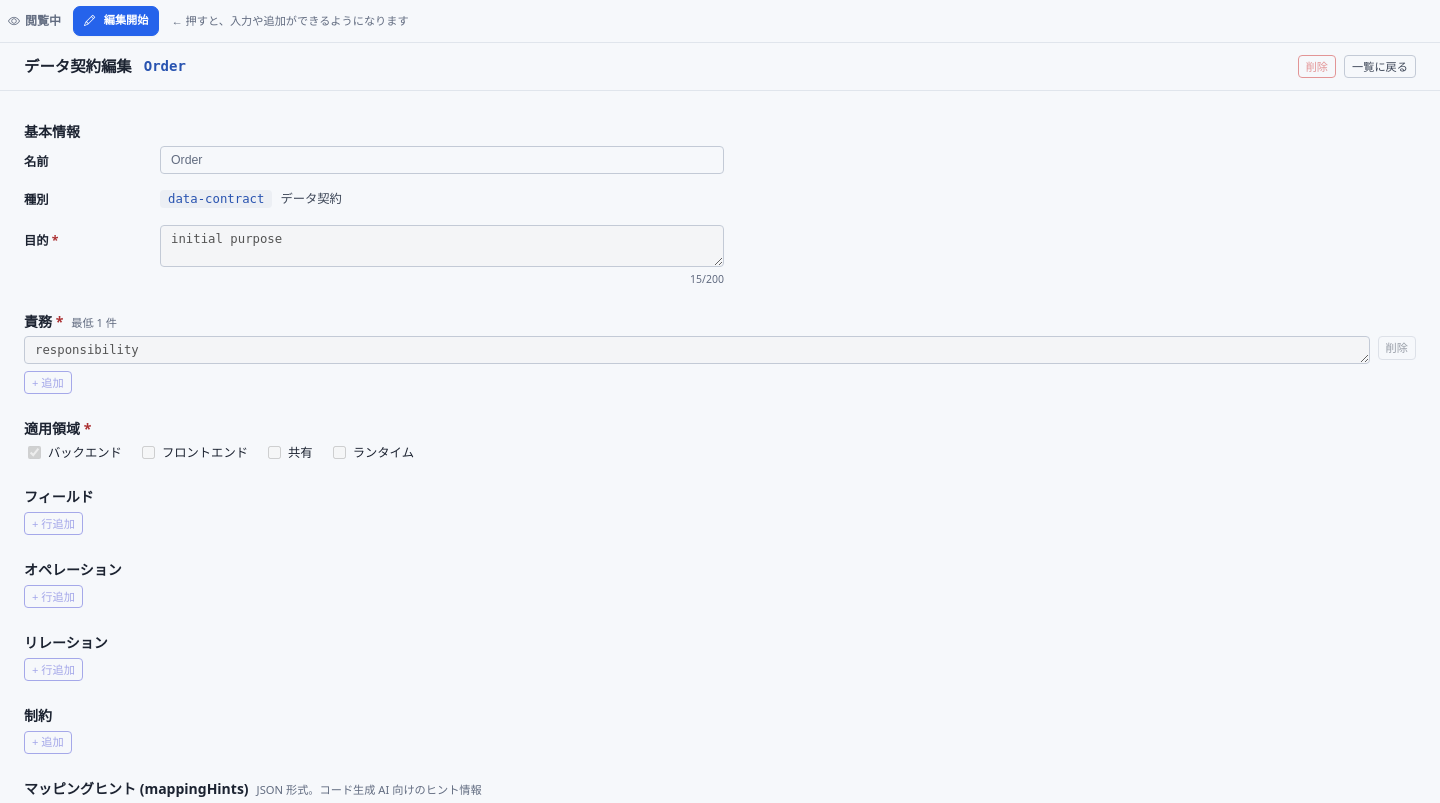
GenericDefinitionEditor — 未保存の変更の扱い › 変更がないあいだは保存を押せず、変更すると押せる。変更点のボタンも変更後に出る
Check: the text box showing "initial purpose" next to "目的" is shown, box [160,225,724,267]
Click the button with test id "edit-mode-start" at (116, 21), box [73,6,160,36]
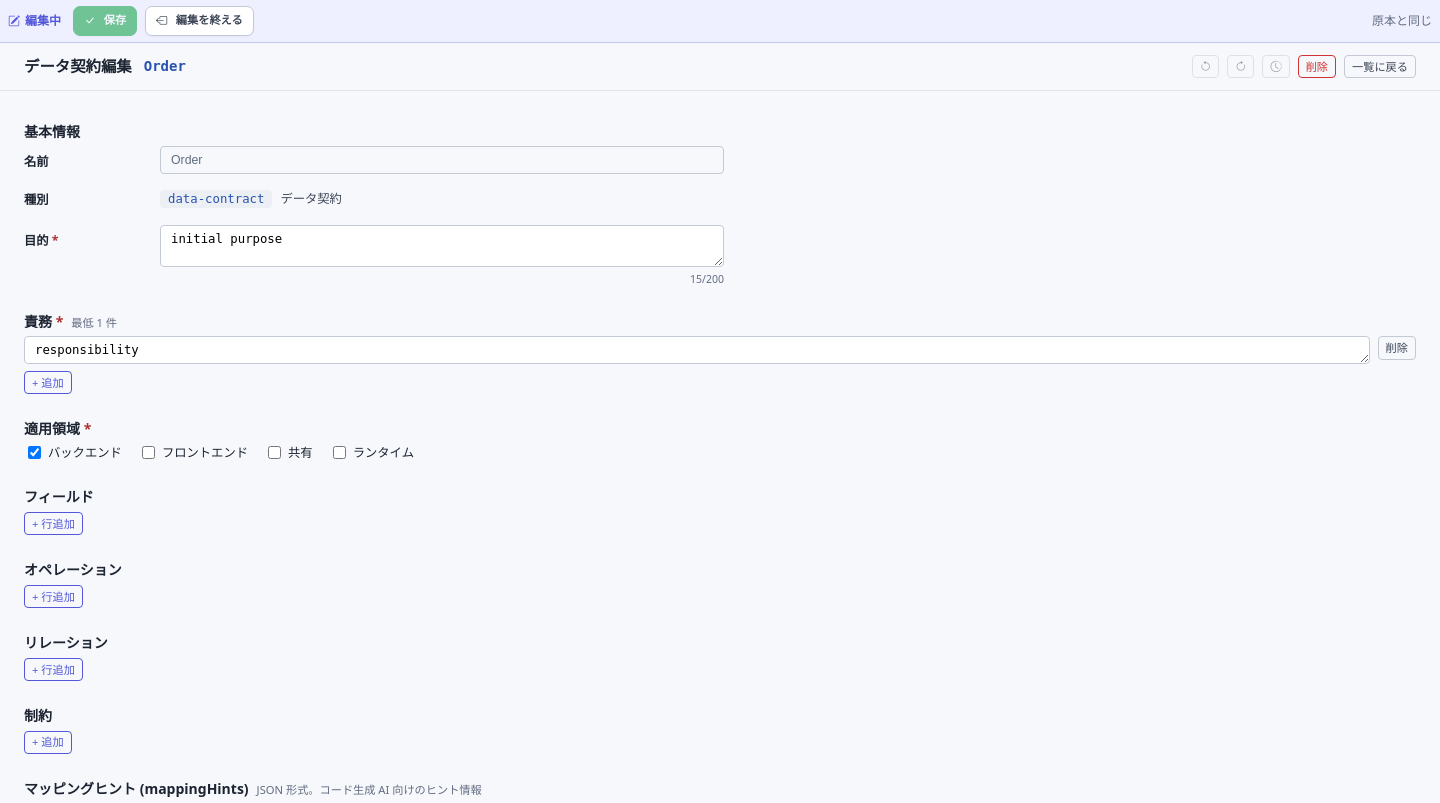
Check: the button "保存" is disabled, box [73,6,137,36]
Replace the text in the text box showing "initial purpose" next to "目的" with "edited purpose" at (442, 246), box [160,225,724,267]
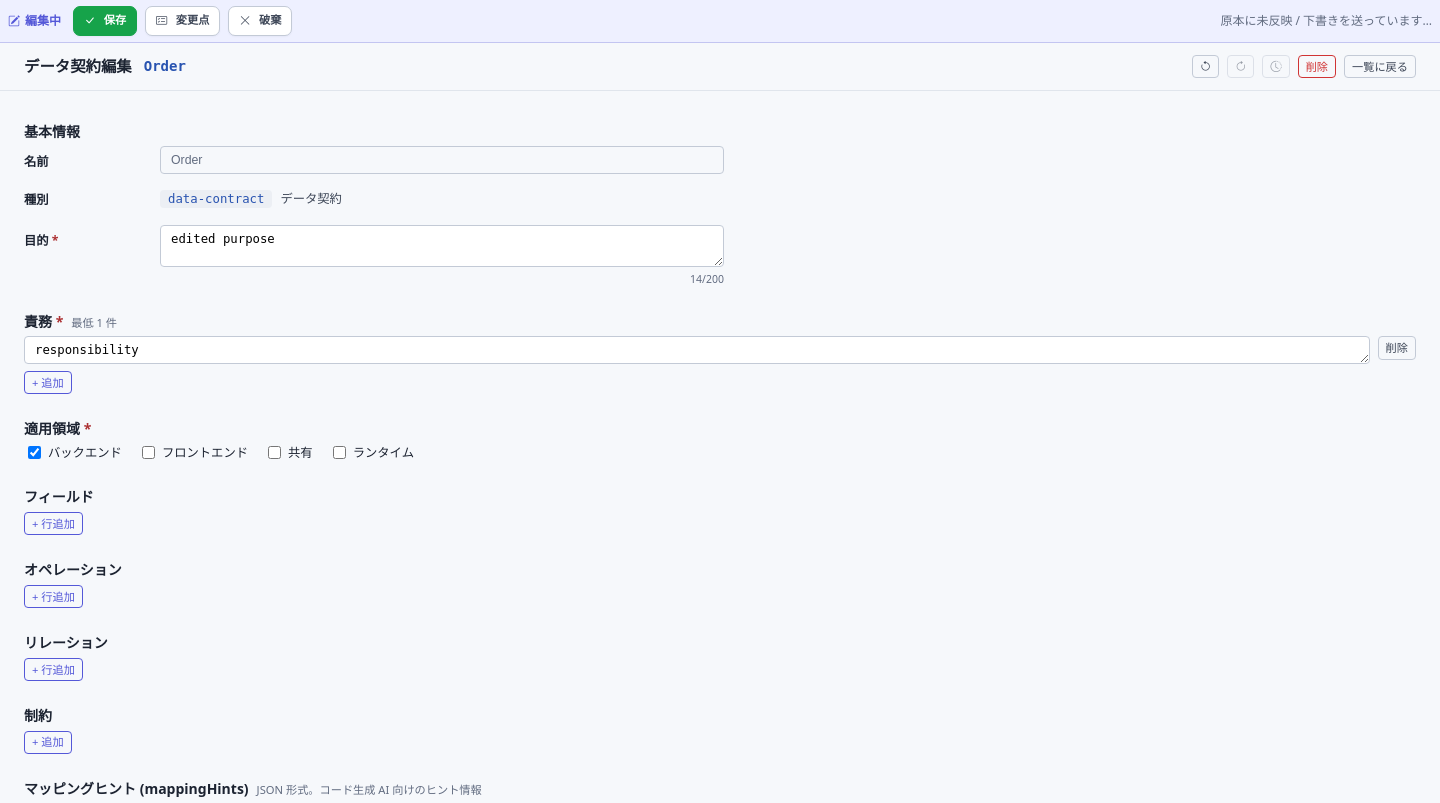
Check: the button "保存" is enabled, box [73,6,137,36]
Check: the button with test id "edit-mode-changes" is shown, box [145,6,220,36]
Replace the text in the text box showing "edited purpose" next to "目的" with "initial purpose" at (442, 246), box [160,225,724,267]
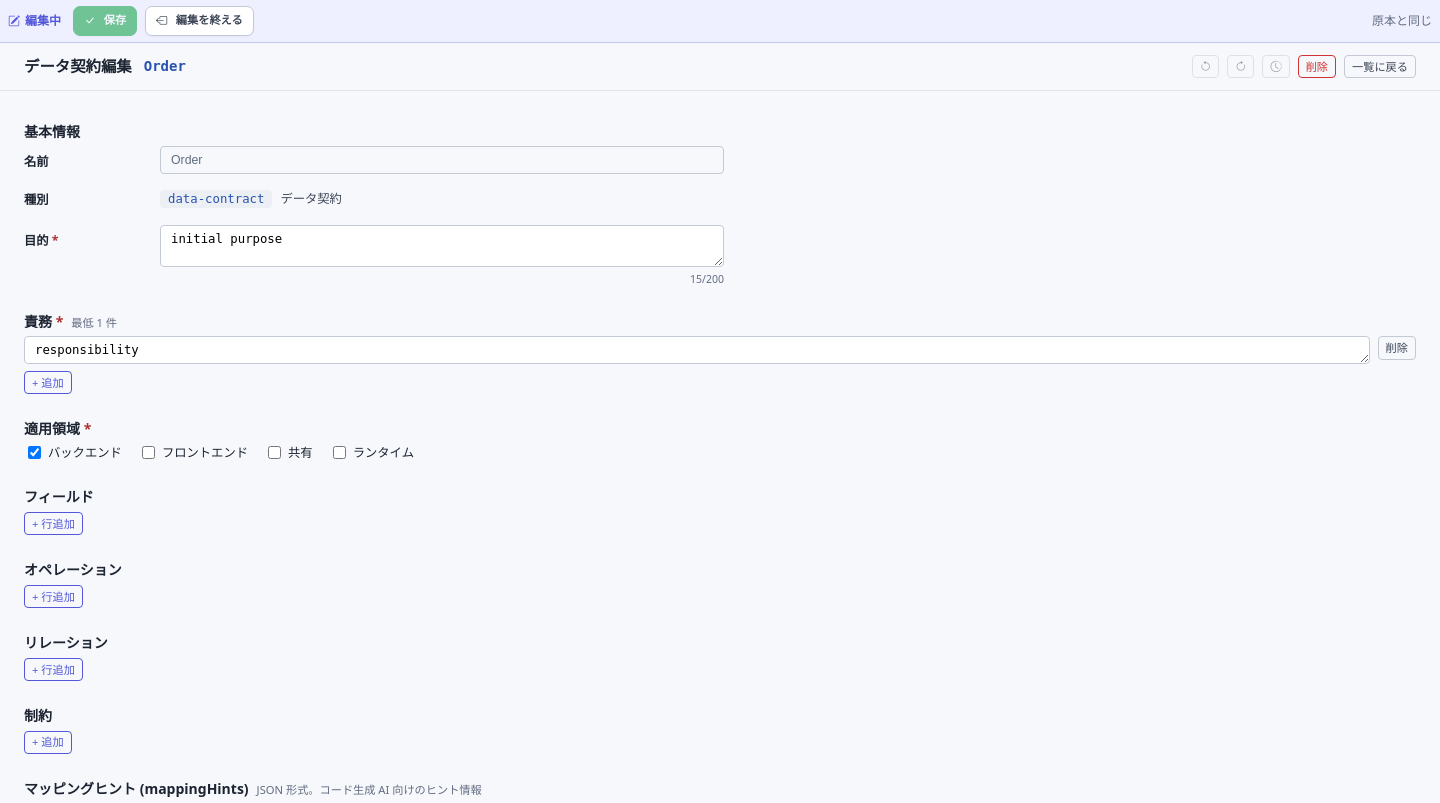
Check: the button "保存" is disabled, box [73,6,137,36]
